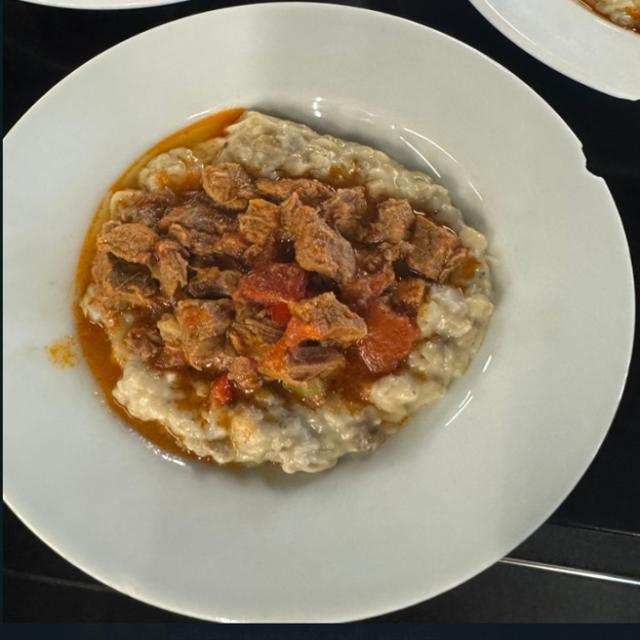ana_yemek: (77, 106, 495, 474)
